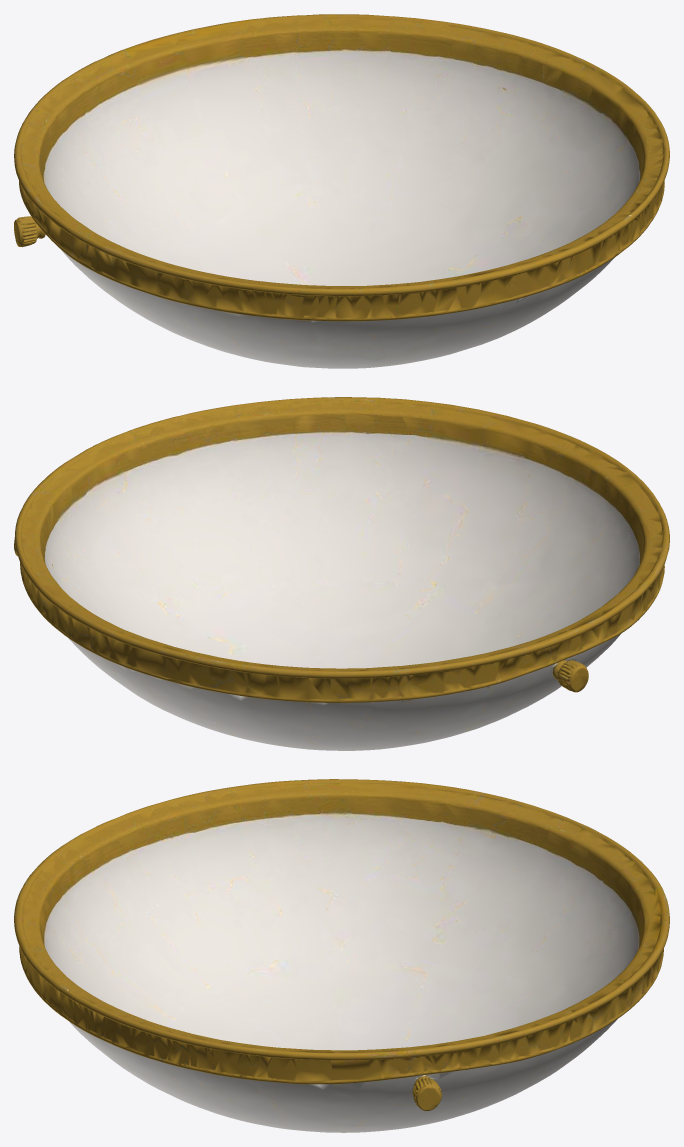
Rendered from flush_light.glb.
The picture shows the model from 3 angles, top to bottom: view 1: azimuth 30°, elevation 25°; view 2: azimuth 150°, elevation 25°; view 3: azimuth 270°, elevation 25°; orthographic projection.
Size of the model in its own units: 1.9 by 0.6647 by 1.9.
1 material, 1 textured.
